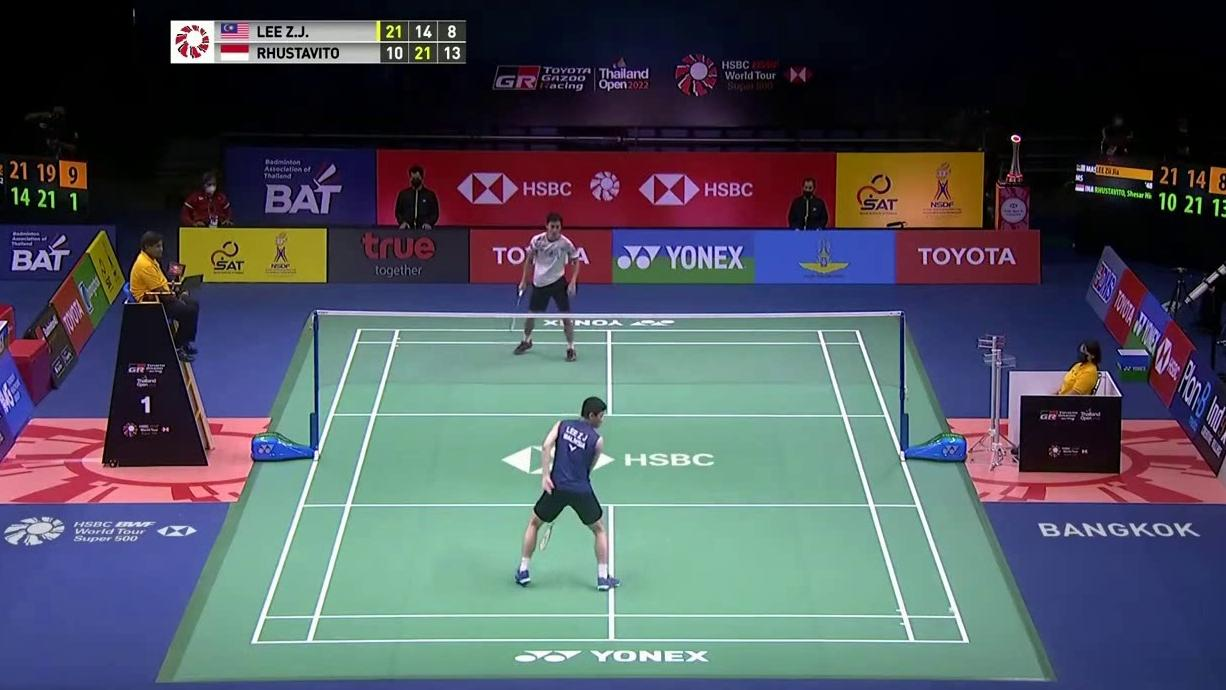racket: (538, 519, 557, 552), (510, 289, 524, 331)
shuttle: (947, 606, 957, 615)
